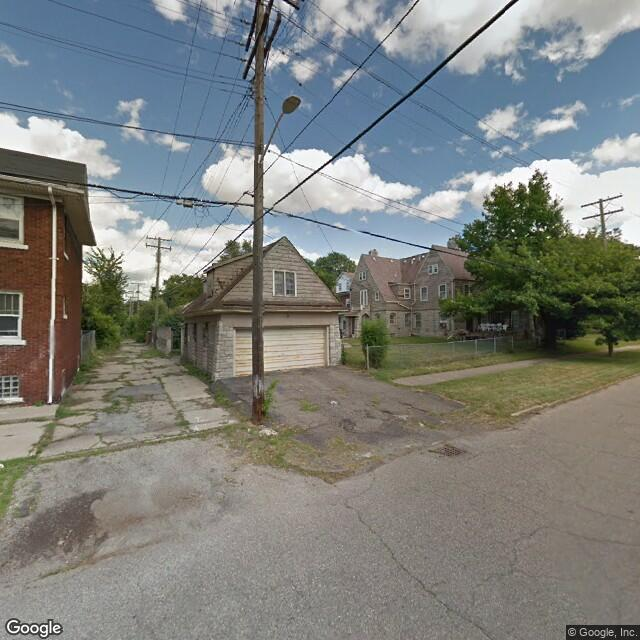litter: (323, 396, 340, 408), (1, 458, 11, 469)
